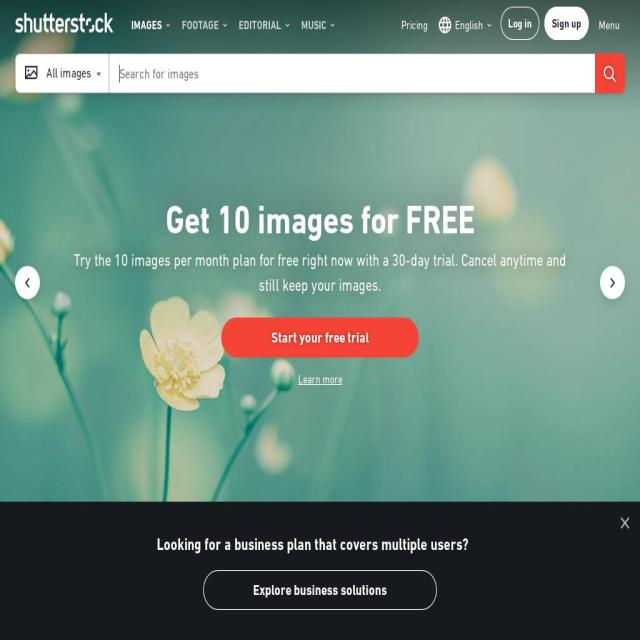button: (65, 357, 575, 388), (203, 570, 437, 610), (221, 316, 419, 358), (15, 54, 109, 94), (15, 7, 116, 40), (234, 7, 296, 40), (177, 7, 234, 40), (126, 7, 177, 40), (296, 7, 342, 40), (544, 7, 589, 40), (500, 7, 540, 40), (397, 7, 432, 40), (594, 7, 625, 40)
field: (109, 54, 595, 94)
heading: (65, 246, 575, 298), (65, 197, 575, 241), (159, 554, 481, 578)
image: (0, 0, 640, 525), (457, 614, 564, 638), (15, 12, 116, 32), (348, 614, 412, 638), (76, 614, 133, 638), (595, 54, 625, 94), (256, 614, 303, 638), (178, 614, 212, 638), (318, 506, 322, 512), (332, 506, 336, 512)
text: (157, 532, 468, 556), (46, 58, 92, 88), (239, 18, 281, 32), (182, 18, 219, 32), (455, 16, 483, 34), (131, 18, 162, 32), (302, 18, 326, 32)
